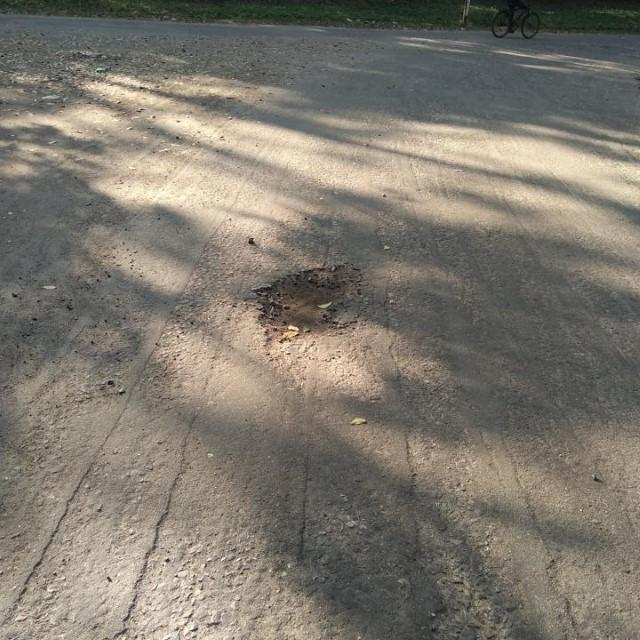pothole: (250, 260, 366, 367)
